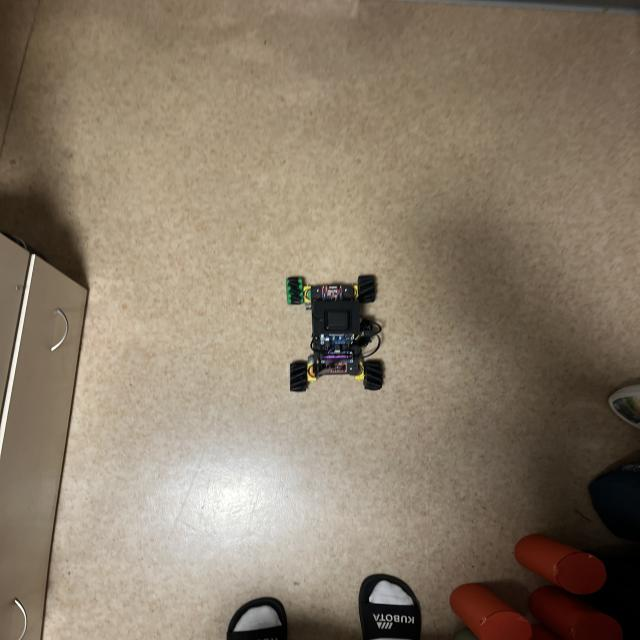robot: (286, 275, 384, 392)
